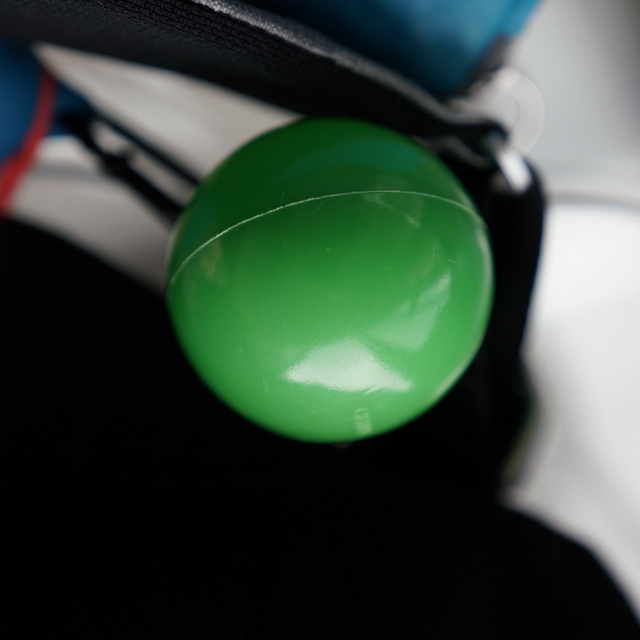Ball: (169, 115, 494, 446)
